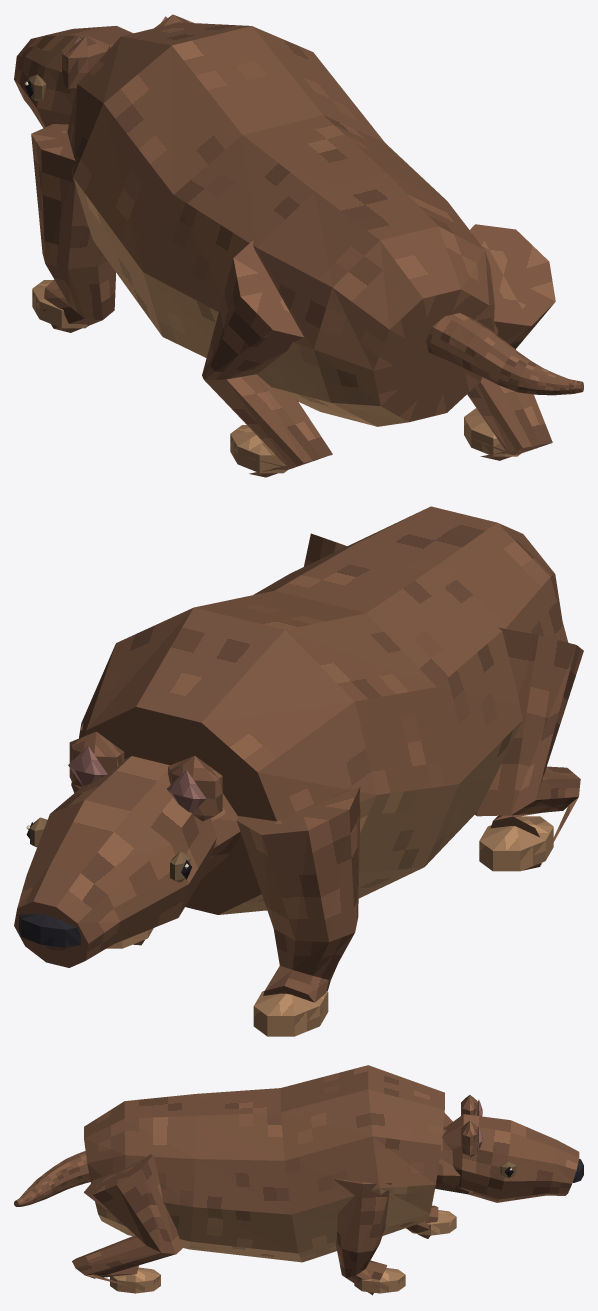
The model's file is mon_groundhog.glb.
3 views of the same model, one above another, from view 1: azimuth 30°, elevation 25°; view 2: azimuth 150°, elevation 25°; view 3: azimuth 270°, elevation 25° (orthographic). The views are drawn at different scales.
Visible parts, largest first — view 1: closed_body; view 2: closed_body; view 3: closed_body.
Boxes of the visible parts, <box> form: closed_body: <box>14,14,583,477</box>; closed_body: <box>14,506,583,1036</box>; closed_body: <box>14,1065,583,1295</box>.
Size of the model in its own units: 0.1992 by 0.2188 by 0.5936.
1 material, 1 textured.
